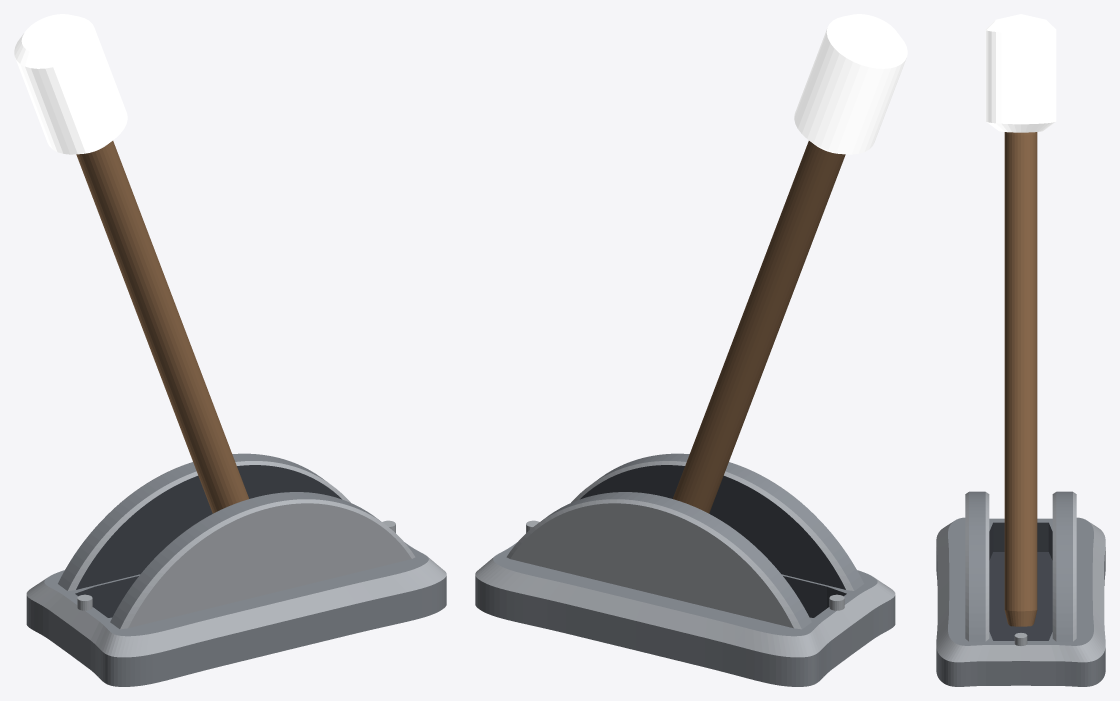
The model's file is lever_off.glb.
3 renders of one model, left to right at view 1: azimuth 30°, elevation 25°; view 2: azimuth 150°, elevation 25°; view 3: azimuth 270°, elevation 25°, orthographic. The views are drawn at different scales.
Parts seen in each view (by area): view 1: lever_off; view 2: lever_off; view 3: lever_off.
Part boxes in pixels (x1,y1,x2,y2): lever_off: (14,14,446,686); lever_off: (475,14,907,686); lever_off: (936,14,1105,686).
Size of the model in its own units: 0.5881 by 0.9243 by 0.2677.
